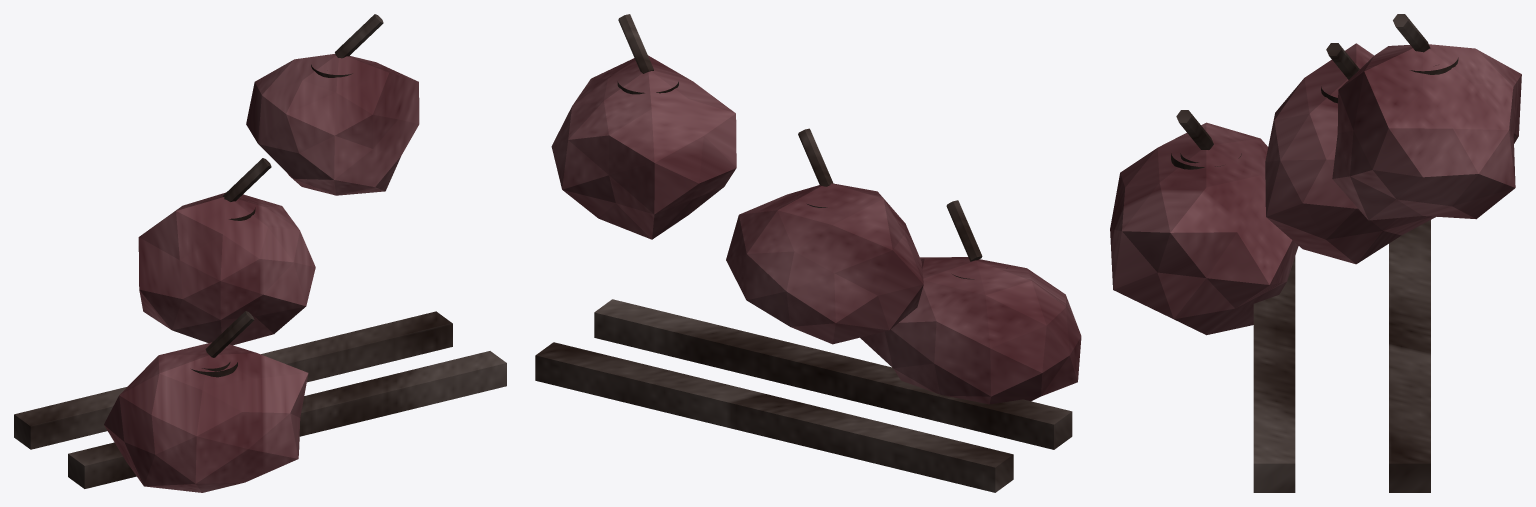
Rendered from 0824_sack_stack_24.glb.
The picture shows the model from 3 angles, left to right: view 1: azimuth 30°, elevation 25°; view 2: azimuth 150°, elevation 25°; view 3: azimuth 270°, elevation 25°; orthographic projection. The views are drawn at different scales.
Parts seen in each view (by area): view 1: cloth, wood_dark; view 2: cloth, wood_dark; view 3: cloth, wood_dark.
Part boxes in pixels (x1=…): cloth: x1=104, y1=54, x2=419, y2=492; wood_dark: x1=14, y1=14, x2=506, y2=488; cloth: x1=551, y1=55, x2=1081, y2=404; wood_dark: x1=535, y1=14, x2=1072, y2=492; cloth: x1=1110, y1=43, x2=1521, y2=335; wood_dark: x1=1171, y1=14, x2=1458, y2=492.
Size of the model in its own units: 1.9 by 1.54 by 1.28.
Materials: 2 (2 with a texture image).
